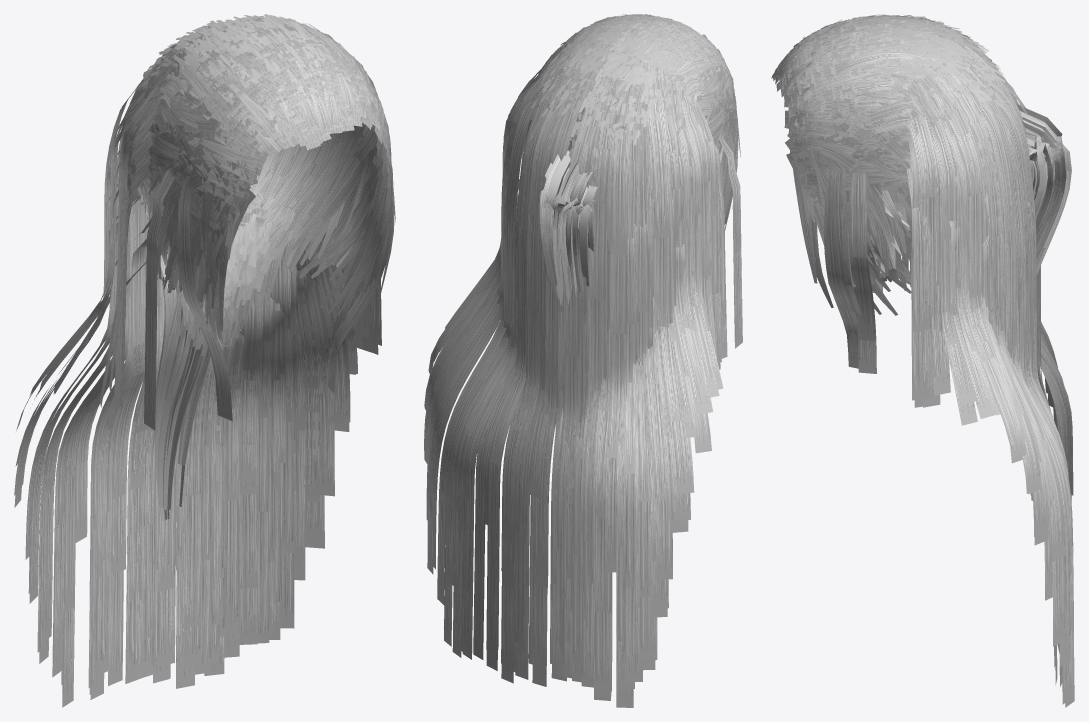
File: NC_Head_Female_Cards5.fbx
3 renders of one model, left to right at view 1: azimuth 30°, elevation 25°; view 2: azimuth 150°, elevation 25°; view 3: azimuth 270°, elevation 25°, orthographic. The views are drawn at different scales.
Parts seen in each view (by area): view 1: Hair_LongStraight_Cards_2, Hair_LongStraight_Cards, Hair_Ponytail_Cards, Hair_Ponytail_CapCards, Hair_Ponytail_Cards_2; view 2: Hair_LongStraight_Cards_2, Hair_Ponytail_Cards, Hair_LongStraight_Cards, Hair_Ponytail_CapCards; view 3: Hair_LongStraight_Cards_2, Hair_LongStraight_Cards, Hair_Ponytail_Cards, Hair_Ponytail_Cards_2.
Part boxes in pixels (x1,y1,x2,y2): Hair_LongStraight_Cards_2: (14,18,393,707); Hair_LongStraight_Cards: (135,14,395,355); Hair_Ponytail_Cards: (140,16,391,519); Hair_Ponytail_CapCards: (142,188,265,519); Hair_Ponytail_Cards_2: (157,288,210,510); Hair_LongStraight_Cards_2: (424,14,742,707); Hair_Ponytail_Cards: (529,14,737,442); Hair_LongStraight_Cards: (521,14,738,231); Hair_Ponytail_CapCards: (546,211,594,450); Hair_LongStraight_Cards_2: (774,15,1074,707); Hair_LongStraight_Cards: (772,15,1016,315); Hair_Ponytail_Cards: (771,14,1071,393); Hair_Ponytail_Cards_2: (1024,122,1054,495).
Size of the model in its own units: 0.9631 by 1.93 by 0.8156.
1 material, 1 textured.
